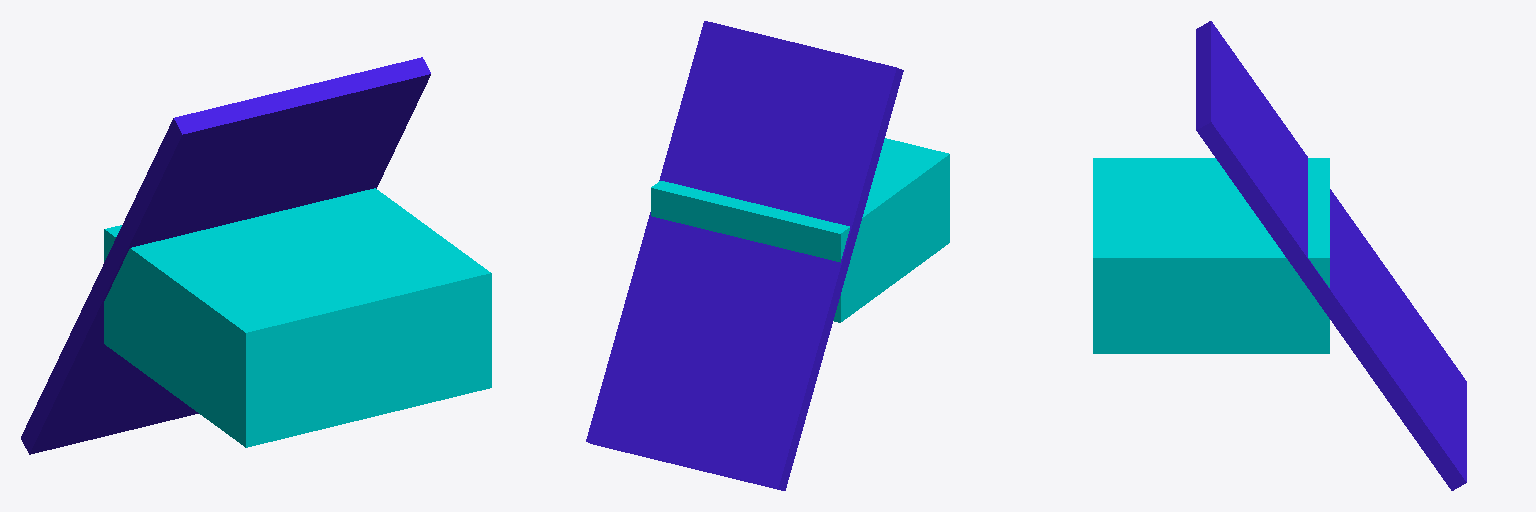
The robot description file, URDF, robot "robot":
<robot name="robot">

	<!-- * * * Link Definitions * * * -->

 	<link name="base_link">
		<visual>
		    <origin xyz="0 0 0" rpy="0 0 0"/>
         
			<geometry>
				<box size=".67 .67 .3"/>
			</geometry>
			<material name="c">
	       		<color rgba="0 0.9 0.9 1.0"/>
	     	</material>
		</visual>	

    <collision>
      <origin xyz="0 0 0" rpy="0 0 0"/>
      <geometry>
        <box size=".67 .67 .3"/>
      </geometry>
      </collision>

	</link>

<link name="arm1">
		<visual>
		    <origin xyz="0 0 0" rpy="-1 0 0"/>
			<geometry>
				<box size=".68 1.34 .05"/>
			</geometry>
			<material name="Cyan1">
	       		<color rgba="0.3 0.15 0.9 1.0"/>
	     	</material>
		</visual>	
    <collision>
      <origin xyz="0 0 0" rpy="-1 0 0"/>
      <geometry>
        <box size=".68 1.34 .05"/>
      </geometry>
      </collision>

	</link>

  <joint name="joint1" type="revolute">
    <parent link="base_link"/>
    <child link="arm1"/>
    <origin xyz="0.0 0.34 0.0"/>
    <axis xyz="1 0 0"/>
	<limit lower="-.5" upper="1.0" effort="0.0" velocity="0.0"/>

    
  </joint>

</robot>

--- Facts derived from the render (not from the file) ---
Views: 3 orthographic renders of the robot side by side, from view 1: azimuth 30°, elevation 25°; view 2: azimuth 150°, elevation 25°; view 3: azimuth 270°, elevation 25°.
Robot: robot — 2 links, 1 joints (1 revolute); root link base_link; default pose: all joints at 0.
Visible links, largest first — view 1: base_link, arm1; view 2: arm1, base_link; view 3: base_link, arm1.
Boxes of the visible links, bbox=[...] form: base_link: bbox=[104, 188, 491, 447]; arm1: bbox=[21, 57, 430, 454]; arm1: bbox=[586, 21, 903, 490]; base_link: bbox=[651, 138, 949, 322]; base_link: bbox=[1093, 158, 1329, 353]; arm1: bbox=[1196, 21, 1466, 490].
Bounding box of the posed robot: 0.68 × 1.06 × 1.15 m (x, y, z).
Geometry: primitives only (box / cylinder / sphere), no mesh files.